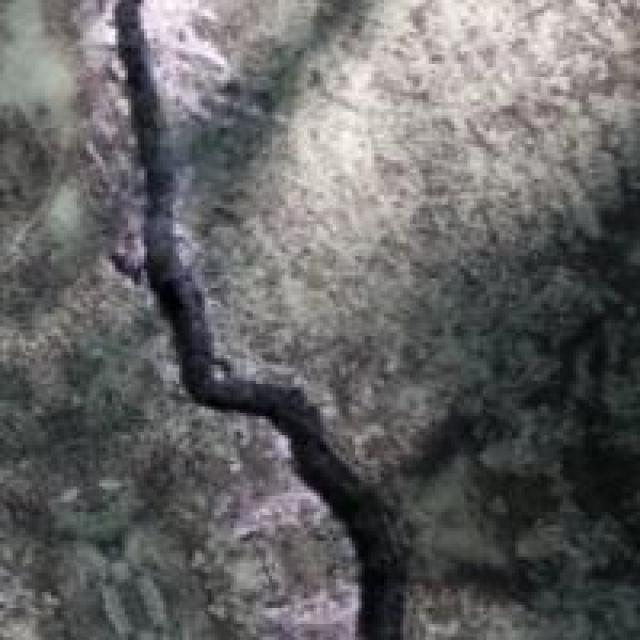crack: (77, 0, 429, 637)
